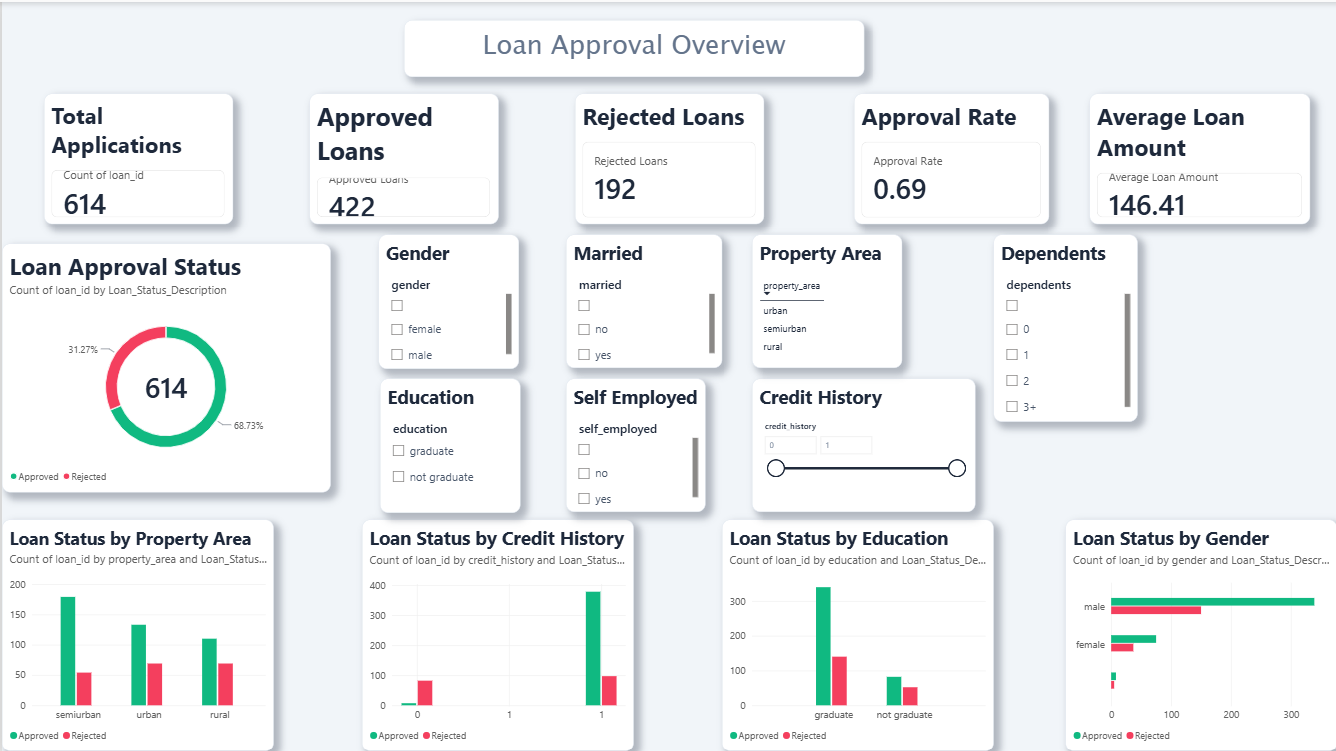

The page's visual inventory and layout, read from the dashboard file:
{"tool":"powerbi","page":{"name":"Loan Approval Overview","canvas":[1920,1080],"ordinal":0},"visuals":[{"type":"cardVisual","title":"Total Applications","fields":{"Data":["CountNonNull(dataset.loan_id)"]},"box":[60.4,131.6,271.8,187.7],"z":0},{"type":"cardVisual","title":"Approved Loans","fields":{"Data":["dataset.Approved Loans"]},"box":[442.2,131.6,271.8,187.7],"z":1},{"type":"cardVisual","title":"Rejected Loans","fields":{"Data":["dataset.Rejected Loans"]},"box":[824,131.6,271.8,187.7],"z":2},{"type":"cardVisual","title":"Approval Rate","fields":{"Data":["dataset.Approval Rate"]},"box":[1225.3,131.6,280.4,187.7],"z":3},{"type":"cardVisual","title":"Average Loan Amount","fields":{"Data":["dataset.Average Loan Amount"]},"box":[1563.9,131.6,317.1,187.7],"z":4},{"type":"donutChart","title":"Loan Approval Status","fields":{"Category":["dataset.Loan_Status_Description"],"Y":["CountNonNull(dataset.loan_id)"]},"box":[0,347.3,472.4,358.1],"z":5},{"type":"clusteredColumnChart","title":"Loan Status by Property Area","fields":{"Category":["dataset.property_area"],"Series":["dataset.Loan_Status_Description"],"Y":["CountNonNull(dataset.loan_id)"]},"box":[0,745,390.7,333.9],"z":6},{"type":"clusteredColumnChart","title":"Loan Status by Credit History","fields":{"Category":["dataset.credit_history"],"Series":["dataset.Loan_Status_Description"],"Y":["CountNonNull(dataset.loan_id)"]},"box":[517.9,745,390.7,333.9],"z":7},{"type":"clusteredColumnChart","title":"Loan Status by Education","fields":{"Category":["dataset.education"],"Series":["dataset.Loan_Status_Description"],"Y":["CountNonNull(dataset.loan_id)"]},"box":[1035.7,745,390.7,333.9],"z":8},{"type":"clusteredBarChart","title":"Loan Status by Gender","fields":{"Category":["dataset.gender"],"Series":["dataset.Loan_Status_Description"],"Y":["CountNonNull(dataset.loan_id)"]},"box":[1528.6,745,390.7,333.9],"z":9},{"type":"slicer","title":"Gender","fields":{"Values":["dataset.gender"]},"box":[541.4,334.4,202.1,193.1],"z":10},{"type":"slicer","title":"Education","fields":{"Values":["dataset.education"]},"box":[543.6,541.4,202.1,193.1],"z":11},{"type":"slicer","title":"Married","fields":{"Values":["dataset.married"]},"box":[811.1,334.4,224.3,192],"z":12},{"type":"slicer","title":"Self Employed","fields":{"Values":["dataset.self_employed"]},"box":[811.1,541.4,200.6,192],"z":13},{"type":"slicer","title":"Credit History","fields":{"Values":["dataset.credit_history"]},"box":[1078.6,541.4,321.4,192],"z":14},{"type":"tableEx","title":"Property Area","fields":{"Values":["dataset.property_area"]},"box":[1078.6,334.4,215.7,192],"z":15},{"type":"slicer","title":"Dependents","fields":{"Values":["dataset.dependents"]},"box":[1425.9,334.4,207.1,269.6],"z":16},{"type":"textbox","box":[578.1,25.9,662.3,82],"z":17}]}

Visuals, with their boxes in screenshot pixels (x1, y1, x2, y2), scaled from the page's 1920x1080 canvas onto the 1336x751 screenshot:
"Total Applications" cardVisual: rect(42, 92, 231, 222)
"Approved Loans" cardVisual: rect(308, 92, 497, 222)
"Rejected Loans" cardVisual: rect(573, 92, 762, 222)
"Approval Rate" cardVisual: rect(853, 92, 1048, 222)
"Average Loan Amount" cardVisual: rect(1088, 92, 1309, 222)
"Loan Approval Status" donutChart: rect(0, 242, 329, 491)
"Loan Status by Property Area" clusteredColumnChart: rect(0, 518, 272, 750)
"Loan Status by Credit History" clusteredColumnChart: rect(360, 518, 632, 750)
"Loan Status by Education" clusteredColumnChart: rect(721, 518, 993, 750)
"Loan Status by Gender" clusteredBarChart: rect(1064, 518, 1335, 750)
"Gender" slicer: rect(377, 233, 517, 367)
"Education" slicer: rect(378, 376, 519, 511)
"Married" slicer: rect(564, 233, 720, 366)
"Self Employed" slicer: rect(564, 376, 704, 510)
"Credit History" slicer: rect(751, 376, 974, 510)
"Property Area" tableEx: rect(751, 233, 901, 366)
"Dependents" slicer: rect(992, 233, 1136, 420)
textbox: rect(402, 18, 863, 75)
